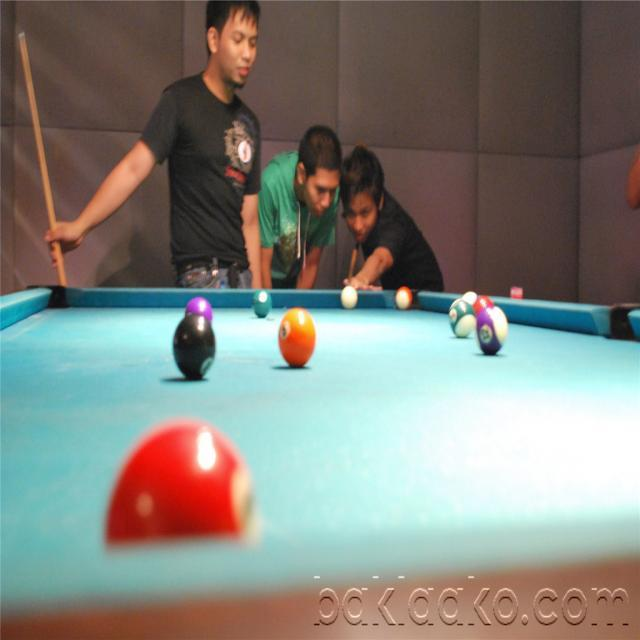Ball: (103, 419, 264, 548), (172, 313, 217, 379), (278, 307, 316, 368), (477, 306, 508, 355), (449, 298, 474, 337), (186, 298, 213, 322), (252, 289, 272, 318), (341, 286, 358, 312), (473, 296, 494, 314), (395, 287, 412, 309), (462, 292, 478, 304)
Billiard table: (0, 285, 640, 640)
